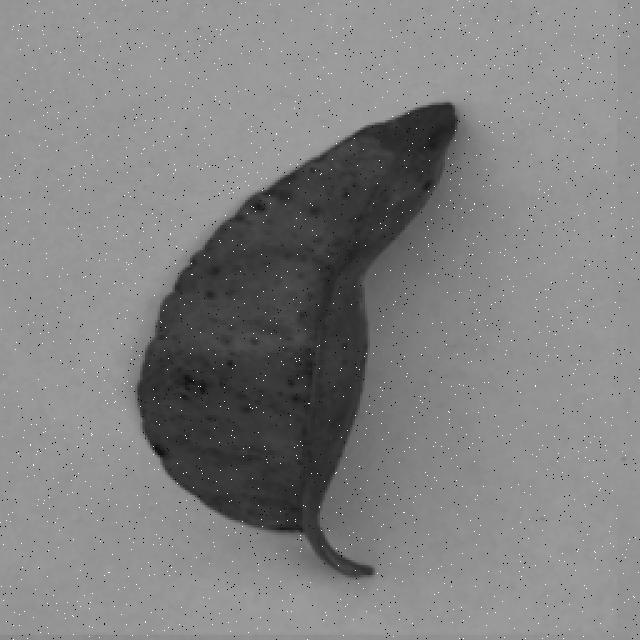greening: (112, 90, 489, 577)
